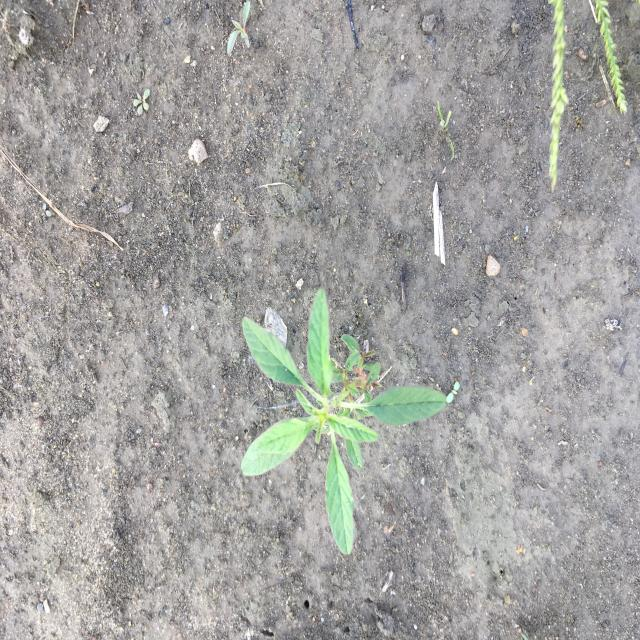Waterhemp: (240, 287, 448, 557)
